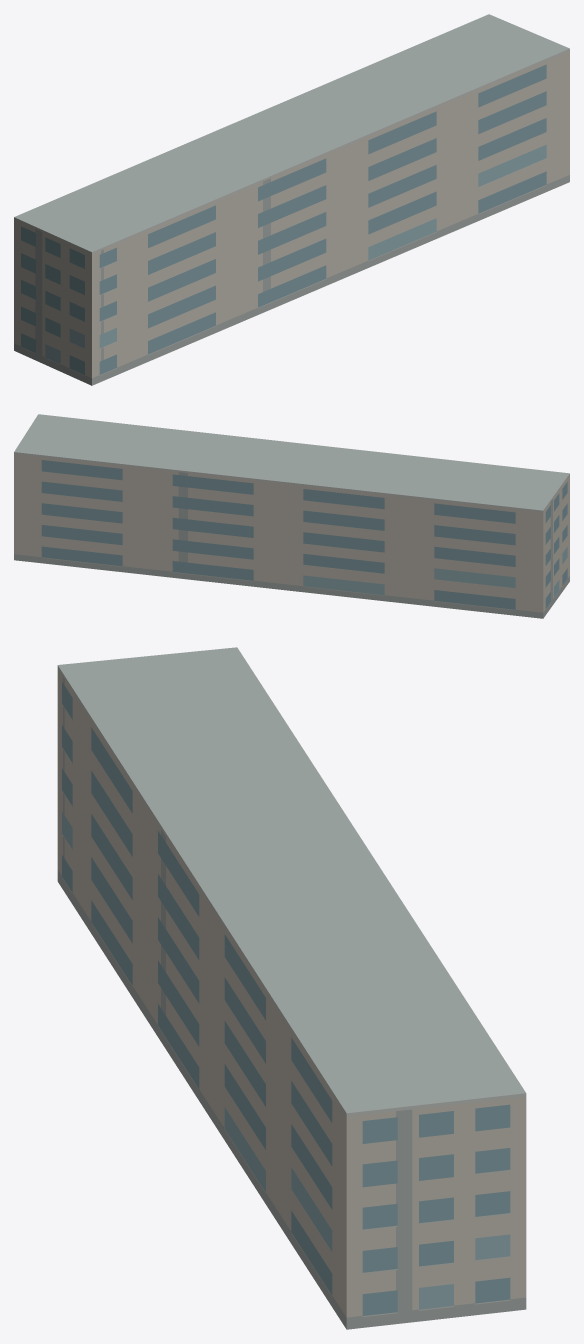
File: residential-50b8747e-f4f0-473c-89c9-04a80db95c6f.glb
3 renders of one model, top to bottom at view 1: azimuth 30°, elevation 25°; view 2: azimuth 150°, elevation 25°; view 3: azimuth 270°, elevation 25°, orthographic. The views are drawn at different scales.
Parts seen in each view (by area): view 1: residential-50b8747e-f4f0-473c-89c9-04a80db95c6f.tmp; view 2: residential-50b8747e-f4f0-473c-89c9-04a80db95c6f.tmp; view 3: residential-50b8747e-f4f0-473c-89c9-04a80db95c6f.tmp.
Part boxes in pixels (bbox=[...]): residential-50b8747e-f4f0-473c-89c9-04a80db95c6f.tmp: bbox=[14, 14, 569, 385]; residential-50b8747e-f4f0-473c-89c9-04a80db95c6f.tmp: bbox=[14, 414, 569, 618]; residential-50b8747e-f4f0-473c-89c9-04a80db95c6f.tmp: bbox=[57, 647, 526, 1329].
Bounding box in the file's own units: 70.46 × 15.25 × 29.96.
